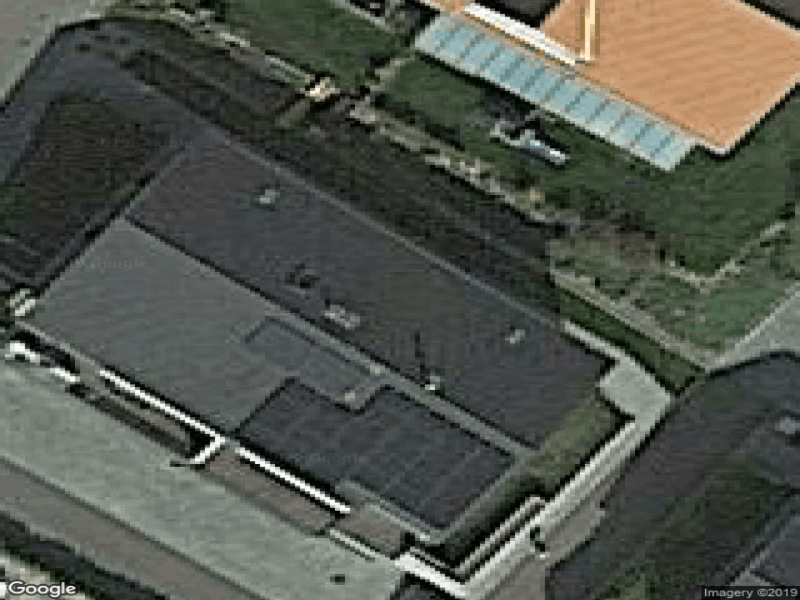pv: (236, 377, 514, 531)
